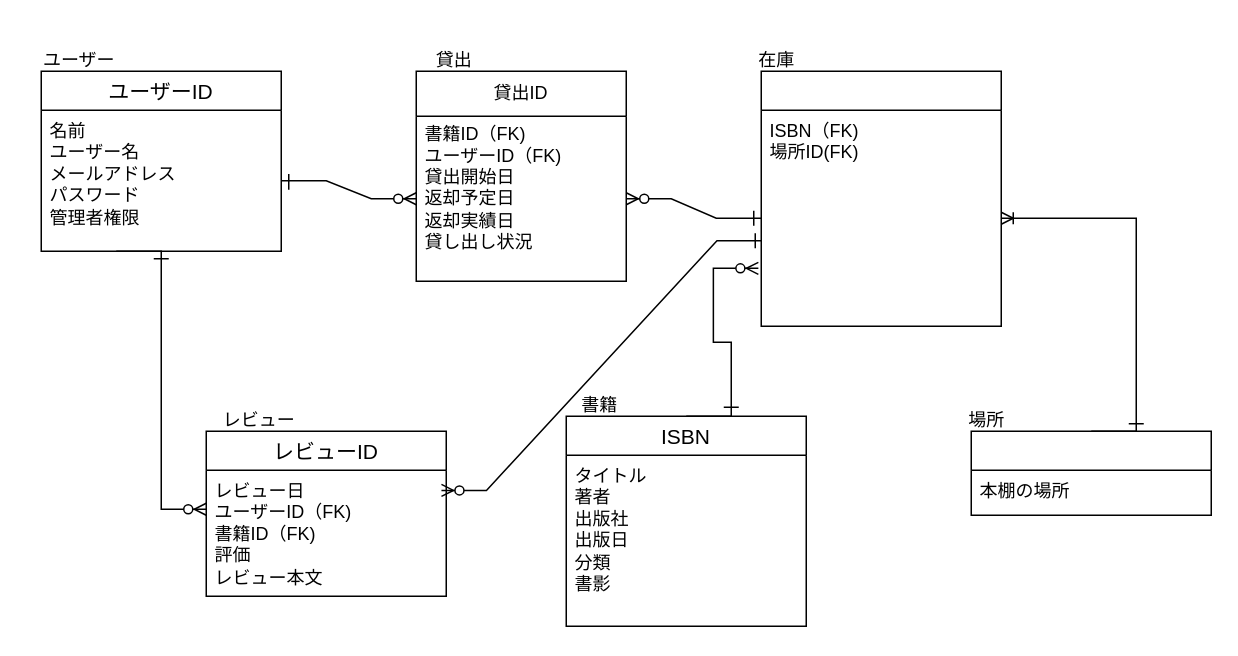
This 1238x656 diagram has some shape labels left out. Each missing label, with the box of its shape:
場所ID: (970, 430, 1211, 515)
書籍ID: (760, 70, 1001, 326)
